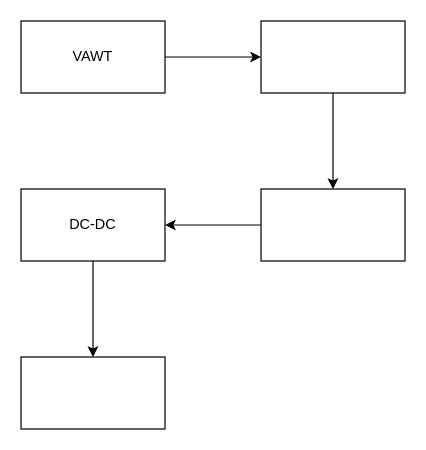
This 426x450 diagram has some shape labels left out. Here are the shapes that lost their labels. From the top down, the box of each, then its label:
(260, 20, 405, 93): PMSG
(260, 188, 405, 261): Redtifier
